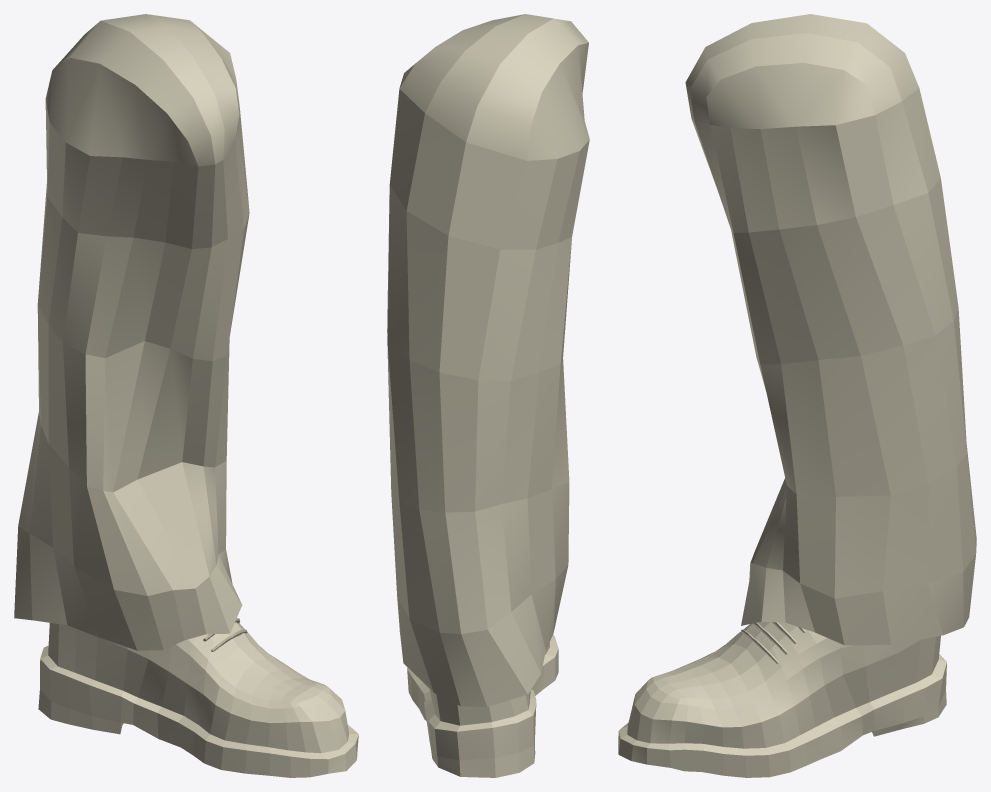
The model's file is pieDer.obj.
3 views of the same model, side by side, from view 1: azimuth 30°, elevation 25°; view 2: azimuth 150°, elevation 25°; view 3: azimuth 270°, elevation 25° (orthographic).
Parts seen in each view (by area): view 1: polySurface5; view 2: polySurface5; view 3: polySurface5.
Part boxes in pixels (x1=…): polySurface5: x1=14, y1=14, x2=358, y2=777; polySurface5: x1=387, y1=14, x2=589, y2=777; polySurface5: x1=618, y1=14, x2=976, y2=777.
Size of the model in its own units: 0.1825 by 0.5991 by 0.2798.
3 materials, 2 textured.
